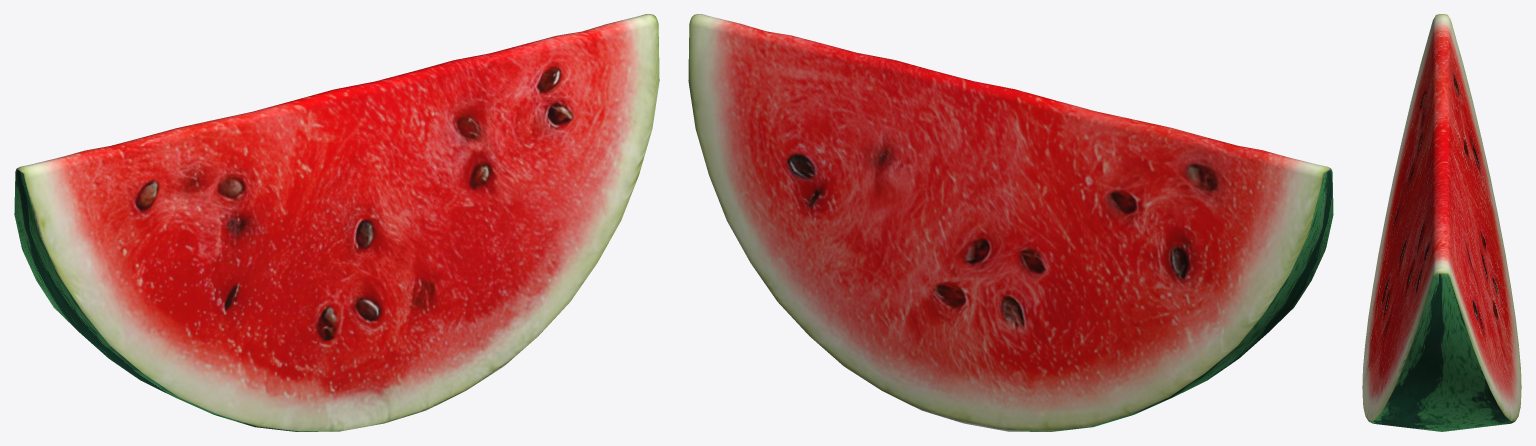
Rendered from Watermelon.fbx.
3 views of the same model, side by side, from view 1: azimuth 30°, elevation 25°; view 2: azimuth 150°, elevation 25°; view 3: azimuth 270°, elevation 25° (orthographic). The views are drawn at different scales.
Visible parts, largest first — view 1: Sphere001; view 2: Sphere001; view 3: Sphere001.
Part boxes in pixels (bbox=[...]): Sphere001: bbox=[14, 14, 659, 431]; Sphere001: bbox=[688, 14, 1333, 431]; Sphere001: bbox=[1362, 14, 1521, 431].
Size of the model in its own units: 174 by 81.17 by 44.85.
Materials: 1 (1 with a texture image).
